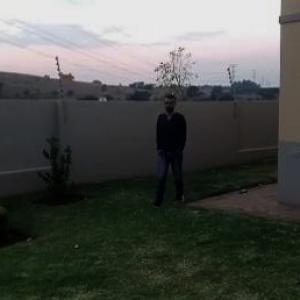follow: (152, 91, 192, 207)
